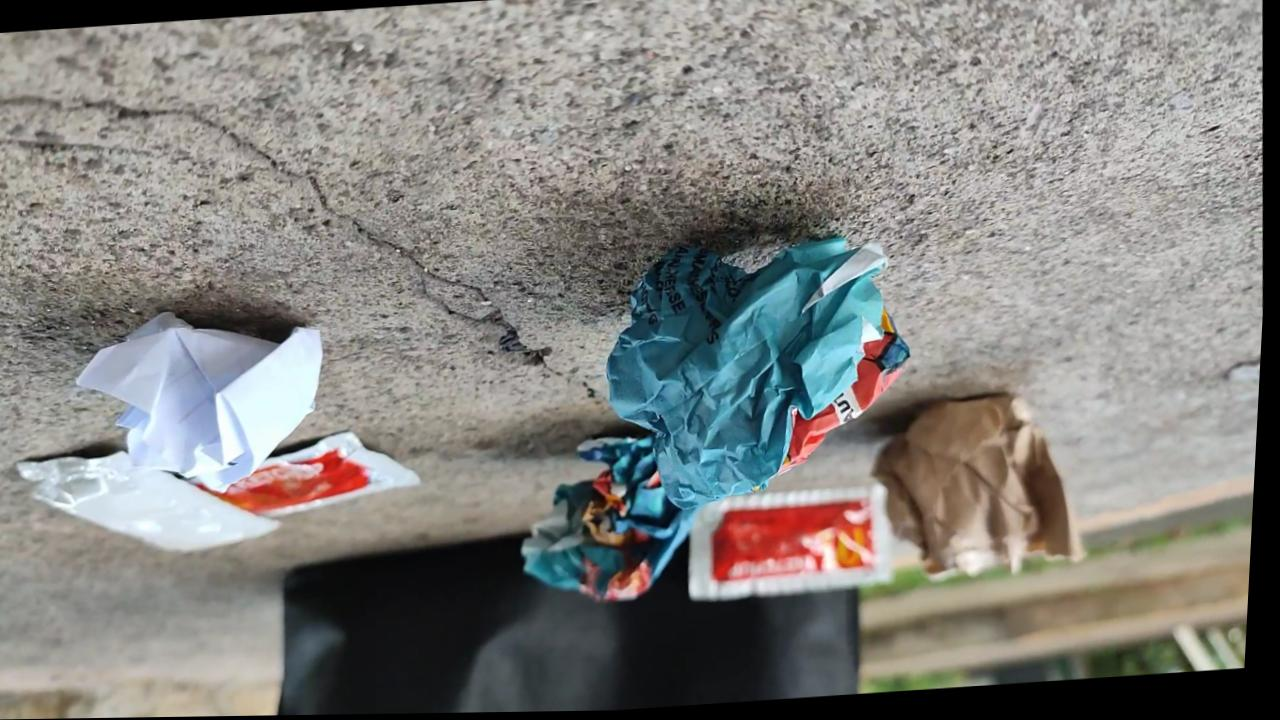paper: (607, 237, 909, 510), (77, 312, 321, 491), (874, 393, 1082, 574), (522, 437, 692, 601)
